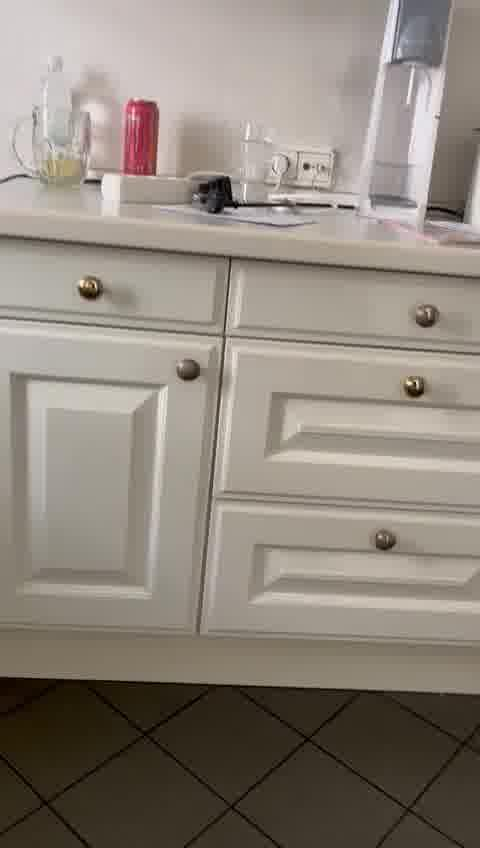cabinet_door: (4, 325, 212, 630), (219, 346, 480, 502), (215, 504, 480, 643), (0, 248, 224, 319), (238, 273, 475, 340)
handle: (364, 524, 403, 559), (177, 348, 206, 388), (77, 274, 106, 309), (415, 298, 443, 331), (404, 372, 426, 403)
